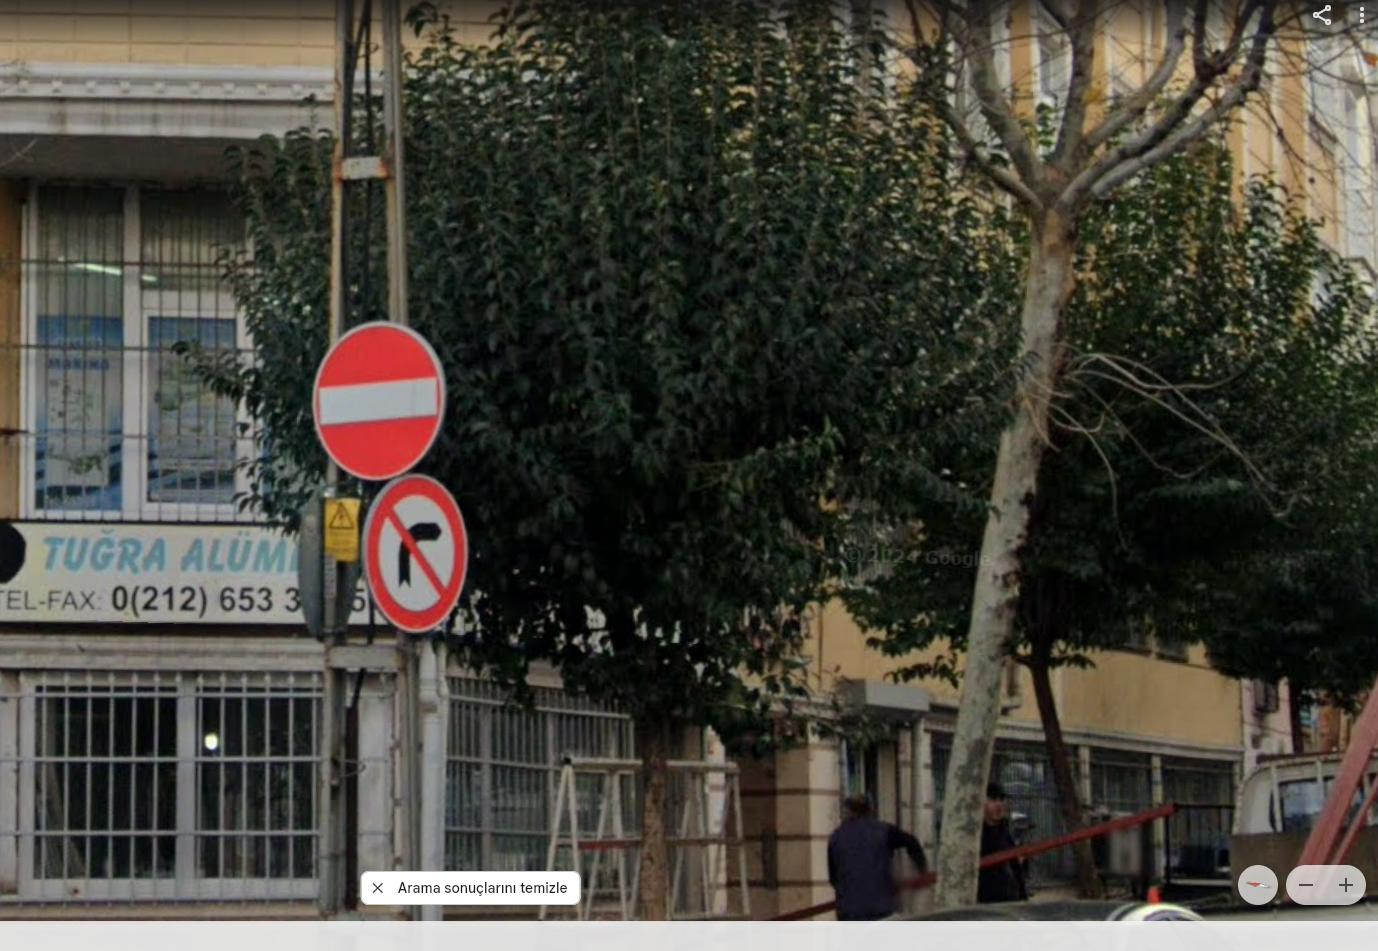rightturnsareforbidden: (363, 482, 468, 625)
